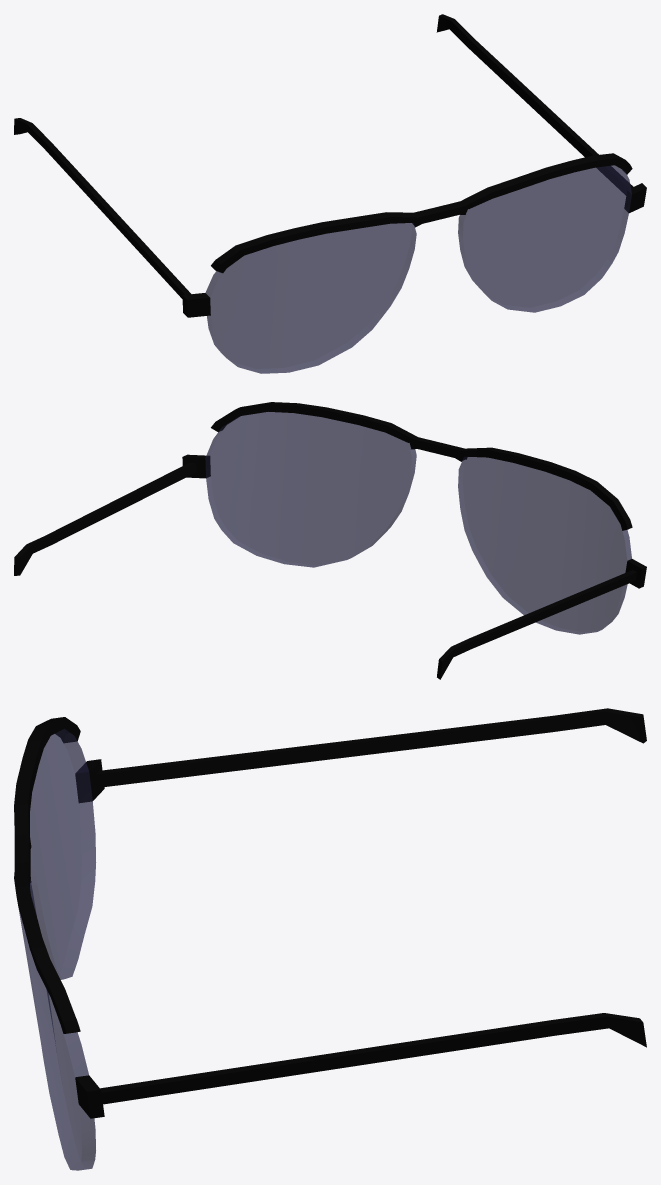
File: MalePrisoner_Glasses.fbx
3 renders of one model, top to bottom at view 1: azimuth 30°, elevation 25°; view 2: azimuth 150°, elevation 25°; view 3: azimuth 270°, elevation 25°, orthographic. The views are drawn at different scales.
Parts seen in each view (by area): view 1: MalePrisoner_Glasses; view 2: MalePrisoner_Glasses; view 3: MalePrisoner_Glasses.
Boxes of the visible parts, box(x1,y1,x2,y2) form: MalePrisoner_Glasses: box(14, 14, 646, 373); MalePrisoner_Glasses: box(14, 402, 646, 679); MalePrisoner_Glasses: box(14, 708, 646, 1170).
Bounding box in the file's own units: 0.1453 × 0.0457 × 0.1175.
